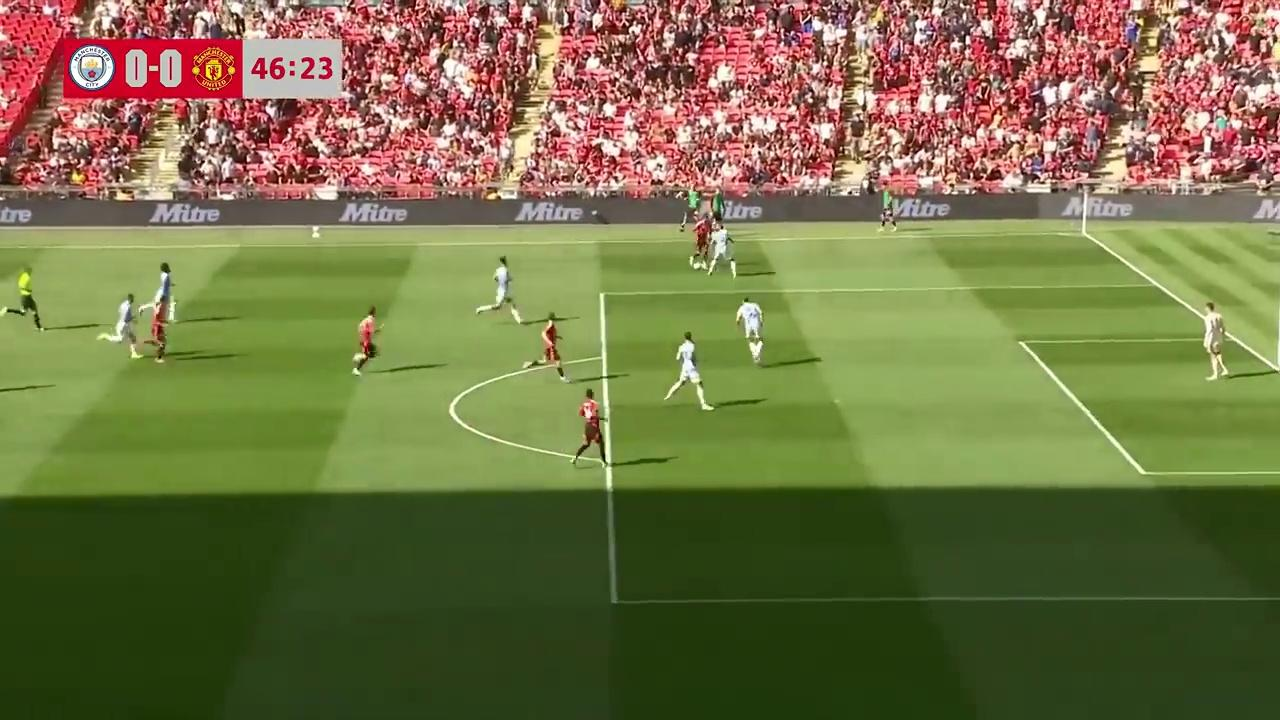player: (664, 332, 712, 410), (476, 256, 522, 322), (571, 389, 608, 468), (1203, 300, 1228, 380), (353, 306, 382, 374), (735, 295, 763, 365), (109, 294, 140, 357), (539, 313, 567, 380), (705, 224, 737, 277), (152, 263, 175, 319), (147, 301, 167, 362), (690, 217, 710, 268)
referee: (3, 266, 45, 331)
